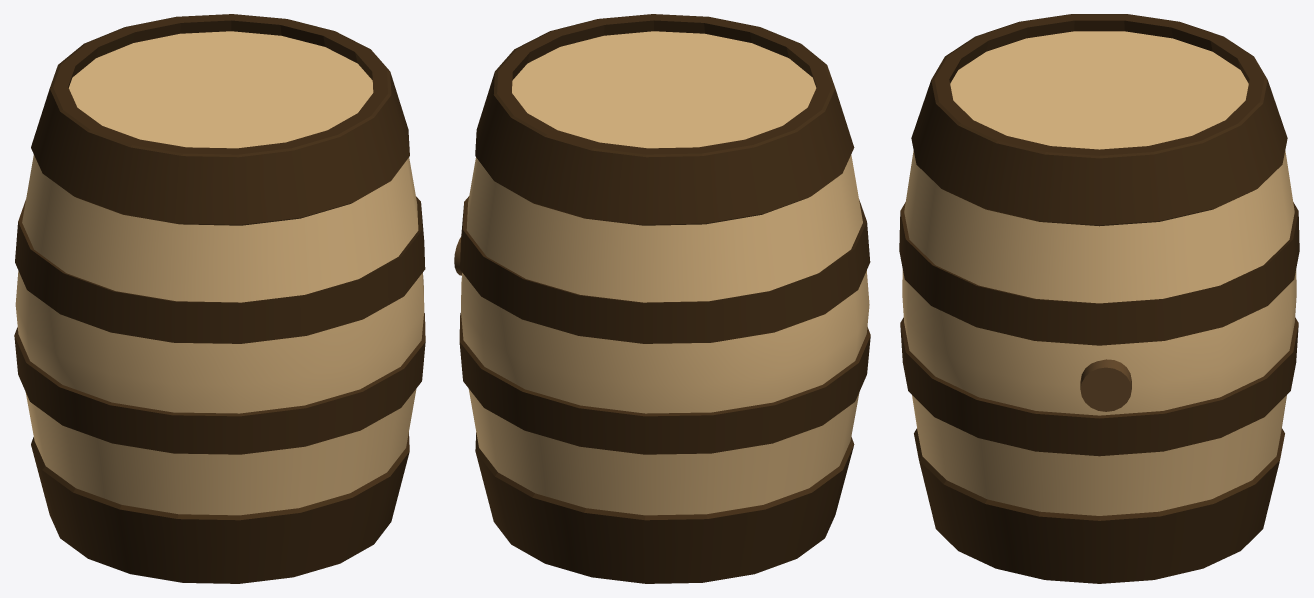
Rendered from barril de madera_model.obj.
3 renders of one model, left to right at view 1: azimuth 30°, elevation 25°; view 2: azimuth 150°, elevation 25°; view 3: azimuth 270°, elevation 25°, orthographic.
Parts seen in each view (by area): view 1: pCylinder2; view 2: pCylinder2; view 3: pCylinder2, pCylinder3.
Part boxes in pixels (left/top/right/bottom): pCylinder2: left=14, top=14, right=425, bottom=583; pCylinder2: left=459, top=14, right=870, bottom=583; pCylinder2: left=899, top=14, right=1299, bottom=583; pCylinder3: left=1080, top=359, right=1131, bottom=411.
Bounding box in the file's own units: 15.29 × 16.8 × 14.29.
2 materials, 2 textured.
